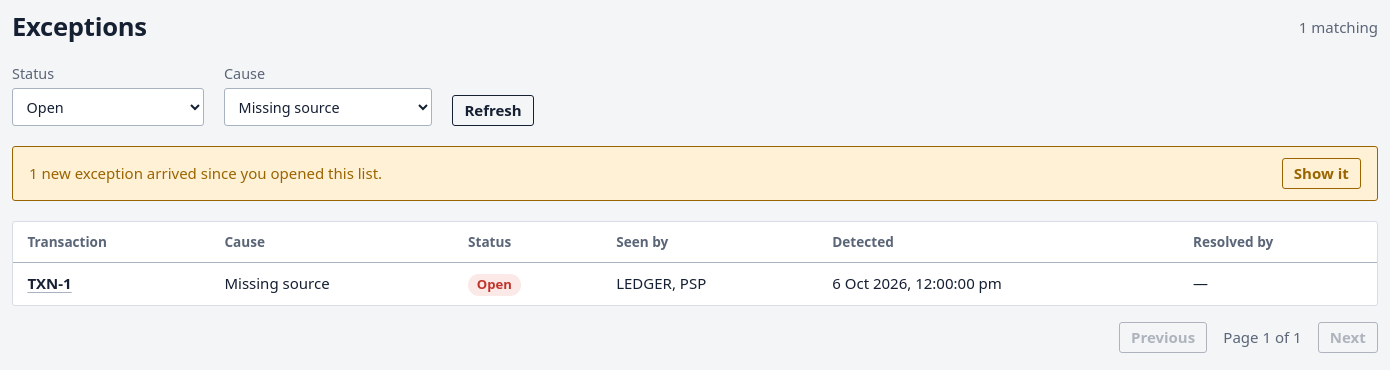
Test: ExceptionsPage › offers new live exceptions instead of moving rows, and refreshes when asked
Expected: the link "TXN-1" is shown, x1=27 y1=273 x2=72 y2=293
Expected: the text "1 new exception arrived since you opened this list." is shown, x1=29 y1=162 x2=382 y2=185
Step 1. Click the button "Show it" → point(1321, 173), box x1=1282 y1=158 x2=1361 y2=189
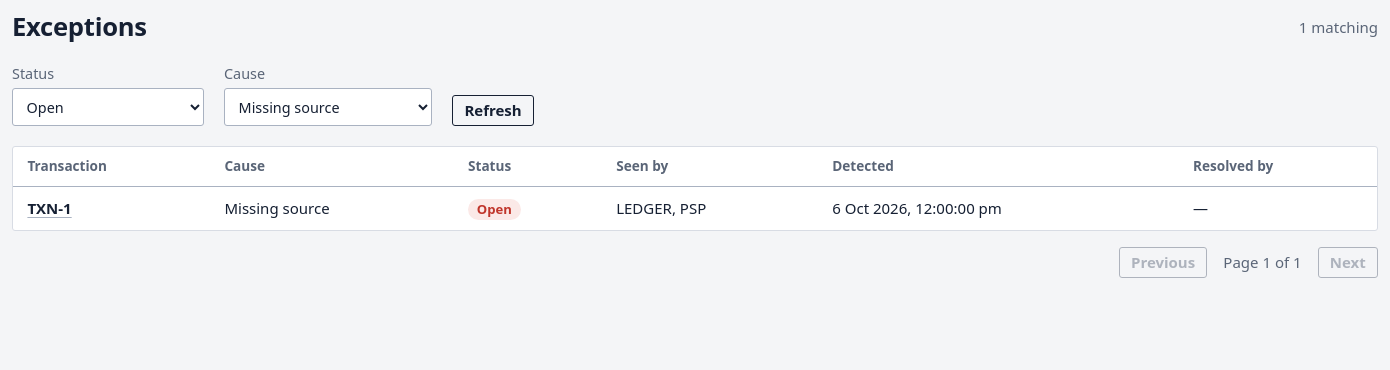
Expected: the message "1 new exception arrived since you opened this list. Show it" is gone
